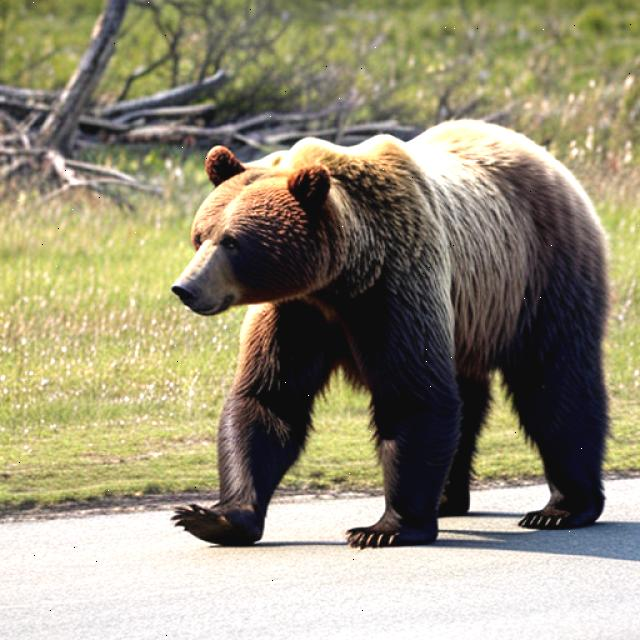bear: (170, 86, 598, 588)
